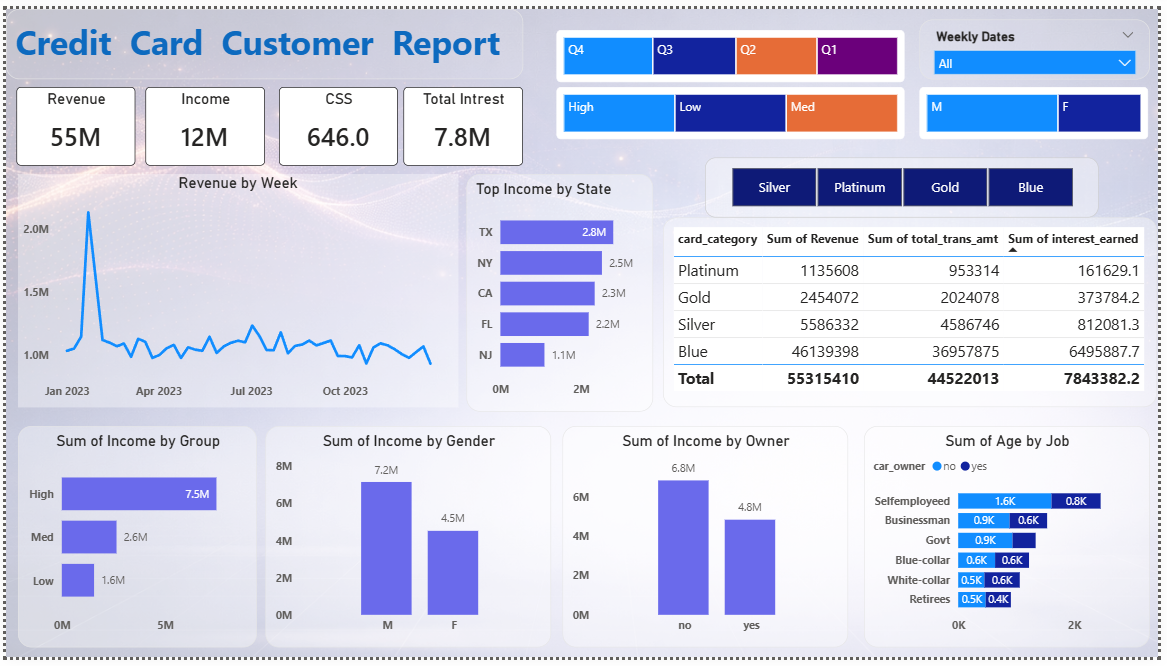

The dashboard page shown, as its layout file describes it:
{"tool":"powerbi","page":{"name":"Credit Card Customer","canvas":[1280,720],"ordinal":1},"visuals":[{"type":"textbox","box":[0,0,574.8,77.7],"z":0},{"type":"barChart","title":"Sum of Income by Group","fields":{"Category":["public cust_detail.IncomeGroup"],"Y":["Sum(public cust_detail.income)"]},"box":[13,463.1,265.6,246.1],"z":1000},{"type":"tableEx","fields":{"Values":["public cc_detail.card_category","Sum(public cc_detail.Revenue)","Sum(public cc_detail.total_trans_amt)","Sum(public cc_detail.interest_earned)"]},"box":[730.3,231.5,548.9,210.5],"z":2000},{"type":"cardVisual","title":"Revenue","fields":{"Data":["Sum(public cc_detail.Revenue)"]},"box":[11.3,87.4,132,87.4],"z":3000},{"type":"cardVisual","title":"Income","fields":{"Data":["Sum(public cust_detail.income)"]},"box":[155.4,87.4,132.8,87.4],"z":4000},{"type":"cardVisual","title":"CSS","fields":{"Data":["Sum(public cust_detail.cust_satisfaction_score)"]},"box":[302.8,87.4,132,87.4],"z":5000},{"type":"cardVisual","title":"Total Intrest","fields":{"Data":["Sum(public cc_detail.interest_earned)"]},"box":[442,87.4,132.8,87.4],"z":6000},{"type":"slicer","fields":{"Values":["public cc_detail.week_start_date"]},"box":[1014.8,11.1,256.1,66.8],"z":7000},{"type":"treemap","fields":{"Group":["public cc_detail.qtr"],"Values":["Sum(public cc_detail.client_num)"]},"box":[612.1,22.7,387,58],"z":8000},{"type":"treemap","fields":{"Values":["Sum(public cc_detail.client_num)"],"Group":["public cust_detail.IncomeGroup"]},"box":[612.1,87.4,387,58.3],"z":9000},{"type":"lineChart","title":"Revenue by Week","fields":{"Y":["Sum(public cc_detail.Revenue)"],"Category":["public cc_detail.week_start_date.Variation.Date Hierarchy.Year","public cc_detail.week_start_date.Variation.Date Hierarchy.Month","public cc_detail.week_start_date.Variation.Date Hierarchy.Day"]},"box":[13,183,489,259.1],"z":10000},{"type":"treemap","fields":{"Group":["public cust_detail.gender"],"Values":["Sum(public cust_detail.income)"]},"box":[1015.3,87.4,254.2,58.3],"z":11000},{"type":"columnChart","title":"Sum of Income by Gender","fields":{"Category":["public cust_detail.gender"],"Y":["Sum(public cust_detail.income)"]},"box":[288.2,463.1,317.4,246.1],"z":12000},{"type":"columnChart","title":"Sum of Income by Owner","fields":{"Y":["Sum(public cust_detail.income)"],"Category":["public cust_detail.house_owner"]},"box":[618.5,463.1,317.4,246.1],"z":13000},{"type":"barChart","title":"Sum of Age by Job","fields":{"Category":["public cust_detail.customer_job"],"Y":["Sum(public cust_detail.customer_age)"],"Series":["public cust_detail.car_owner"]},"box":[953.7,463.1,317.4,246.1],"z":14000},{"type":"barChart","title":"Top Income by State","fields":{"Y":["Sum(public cust_detail.income)"],"Category":["public cust_detail.state_cd"]},"box":[511.7,183,207.3,263.9],"z":15000},{"type":"slicer","fields":{"Values":["public cc_detail.card_category"]},"box":[777.2,165.2,437.2,66.4],"z":16000}]}

Visuals, with their boxes in screenshot pixels (x1, y1, x2, y2), scaled from the page's 1280x720 canvas onto the 1167x666 screenshot:
textbox: Rect(0, 0, 524, 72)
"Sum of Income by Group" barChart: Rect(12, 428, 254, 656)
tableEx - public cc_detail.card_category x Sum(public cc_detail.Revenue): Rect(666, 214, 1166, 409)
"Revenue" cardVisual: Rect(10, 81, 131, 162)
"Income" cardVisual: Rect(142, 81, 263, 162)
"CSS" cardVisual: Rect(276, 81, 396, 162)
"Total Intrest" cardVisual: Rect(403, 81, 524, 162)
slicer - public cc_detail.week_start_date: Rect(925, 10, 1159, 72)
treemap - public cc_detail.qtr x Sum(public cc_detail.client_num): Rect(558, 21, 911, 75)
treemap - Sum(public cc_detail.client_num) x public cust_detail.IncomeGroup: Rect(558, 81, 911, 135)
"Revenue by Week" lineChart: Rect(12, 169, 458, 409)
treemap - public cust_detail.gender x Sum(public cust_detail.income): Rect(926, 81, 1157, 135)
"Sum of Income by Gender" columnChart: Rect(263, 428, 552, 656)
"Sum of Income by Owner" columnChart: Rect(564, 428, 853, 656)
"Sum of Age by Job" barChart: Rect(870, 428, 1159, 656)
"Top Income by State" barChart: Rect(467, 169, 656, 413)
slicer - public cc_detail.card_category: Rect(709, 153, 1107, 214)
